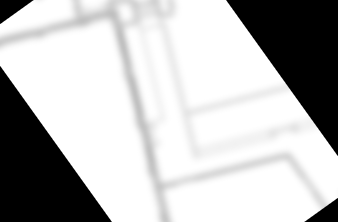door: (102, 25, 144, 71), (137, 0, 177, 20)
double door: (115, 74, 157, 118), (139, 122, 166, 150), (80, 0, 110, 25)
wall: (57, 0, 94, 27), (138, 144, 161, 170), (119, 15, 139, 33), (157, 5, 178, 22), (71, 0, 126, 6)
